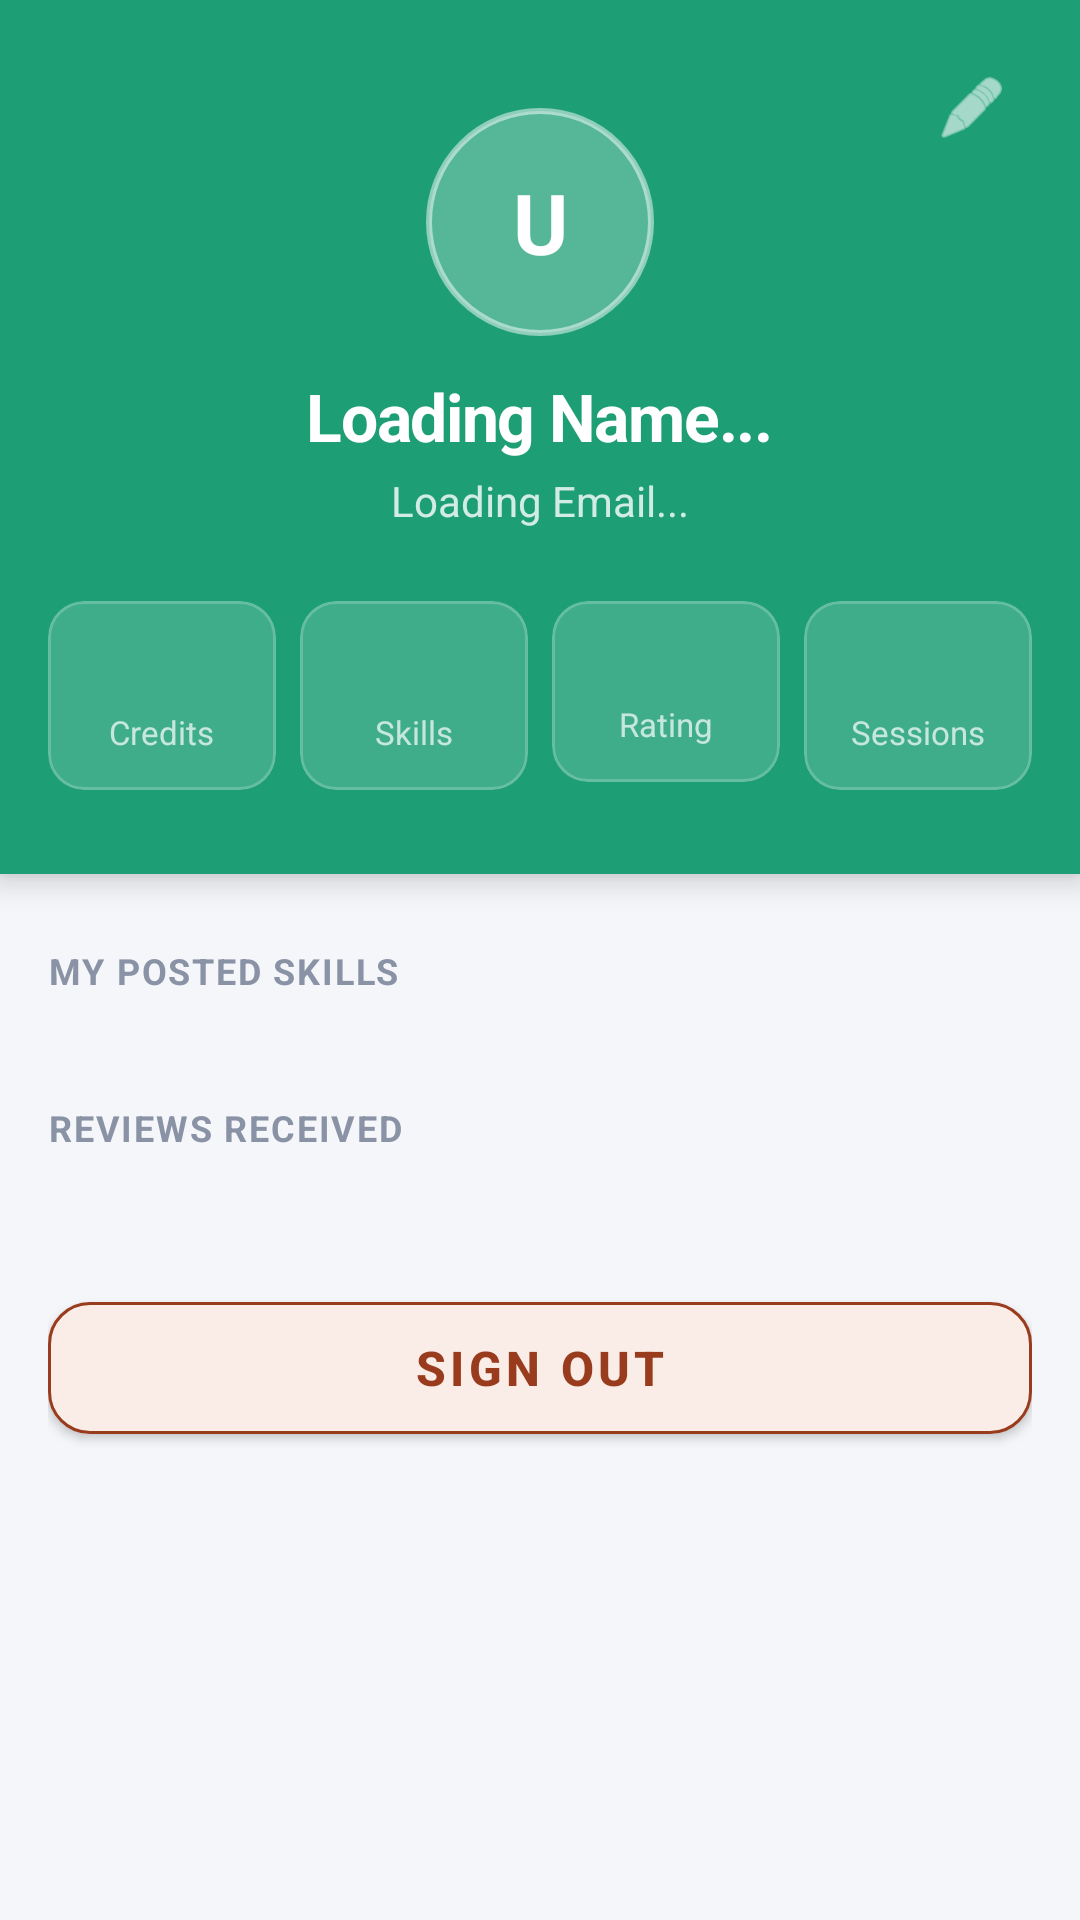

Locate icon controls on the screen. Image size 1080w x 1920h, boxes as [x1,y1,x2,y2].
edit: [941,77,1002,138]
